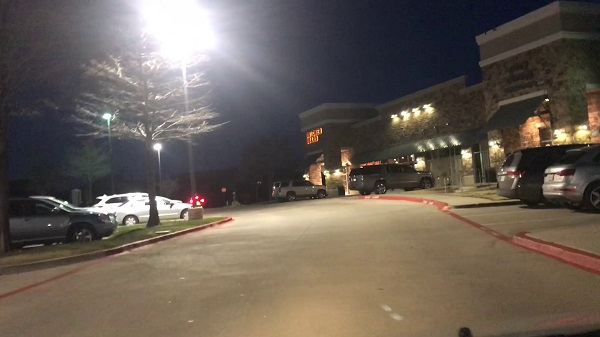car: (5, 195, 115, 246), (495, 151, 579, 203), (543, 150, 600, 210), (348, 166, 431, 195), (115, 198, 194, 223), (269, 181, 325, 199), (185, 194, 205, 205)
